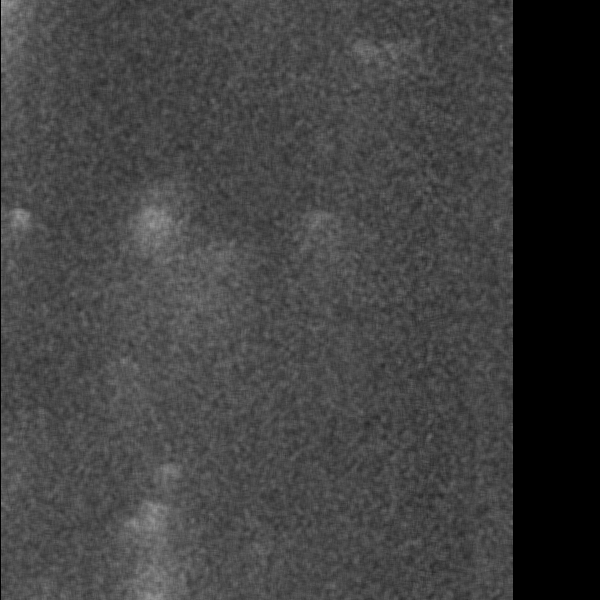spark: (74, 40, 136, 79), (136, 281, 170, 333), (321, 436, 348, 470)
